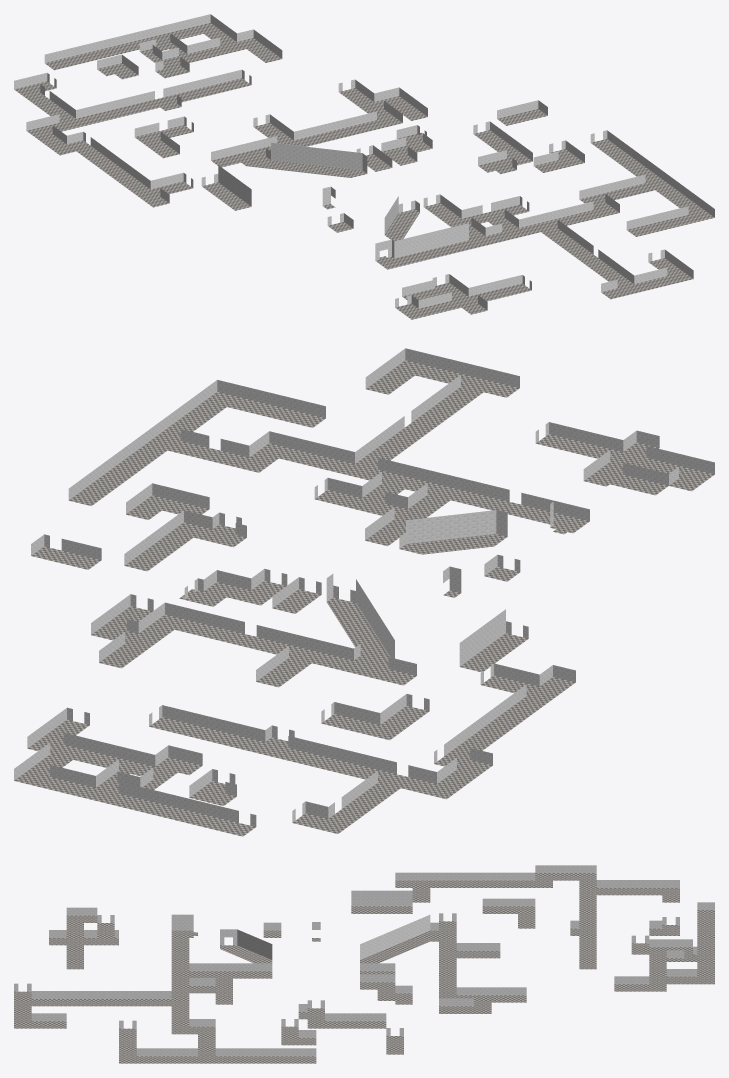
The model's file is Hallways.glb.
3 renders of one model, top to bottom at view 1: azimuth 30°, elevation 25°; view 2: azimuth 150°, elevation 25°; view 3: azimuth 270°, elevation 25°, orthographic. The views are drawn at different scales.
Visible parts, largest first — view 1: Floors.001, Walls.002; view 2: Floors.001, Walls.002; view 3: Floors.001, Walls.002.
Boxes of the visible parts, bbox=[...] form: Floors.001: bbox=[14, 23, 714, 319]; Walls.002: bbox=[14, 14, 714, 310]; Floors.001: bbox=[14, 360, 714, 836]; Walls.002: bbox=[14, 348, 714, 826]; Floors.001: bbox=[14, 873, 714, 1063]; Walls.002: bbox=[14, 865, 714, 1056].
Size of the model in its own units: 103 by 4 by 160.
Materials: 2 (2 with a texture image).
